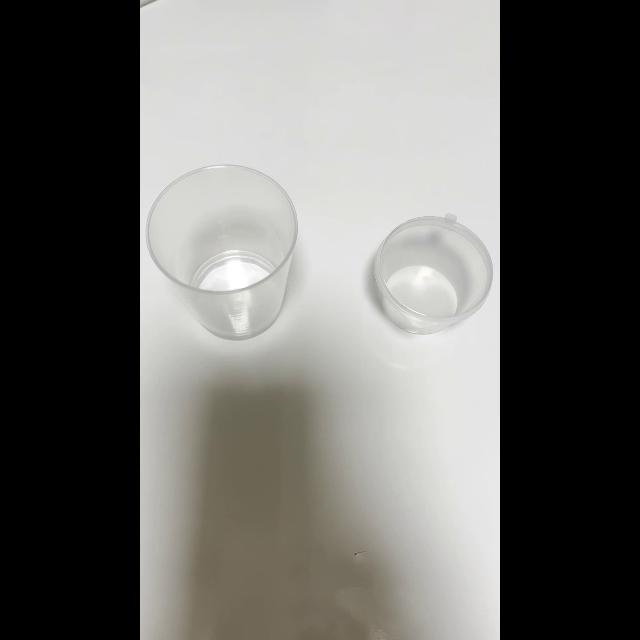clean: (146, 166, 298, 338), (372, 214, 493, 332)
